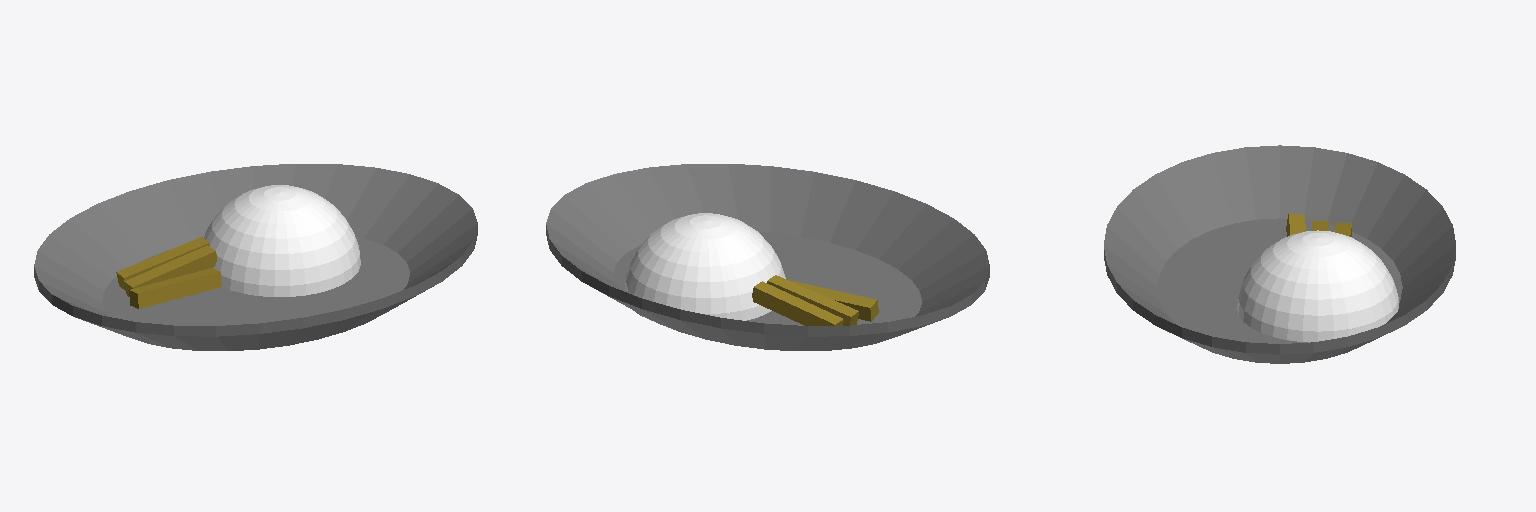
File: rice2_meat1_veg0.obj
3 renders of one model, left to right at view 1: azimuth 30°, elevation 25°; view 2: azimuth 150°, elevation 25°; view 3: azimuth 270°, elevation 25°, orthographic.
Parts seen in each view (by area): view 1: Cylinder, Sphere, Cube.002_Cube.003, Cube.001_Cube.002, Cube_Cube.001; view 2: Cylinder, Sphere, Cube_Cube.001, Cube.001_Cube.002, Cube.002_Cube.003; view 3: Cylinder, Sphere.
Part boxes in pixels (bbox=[...]): Cylinder: bbox=[34, 164, 477, 350]; Sphere: bbox=[204, 185, 360, 296]; Cube.002_Cube.003: bbox=[129, 268, 221, 308]; Cube.001_Cube.002: bbox=[124, 245, 216, 296]; Cube_Cube.001: bbox=[116, 237, 209, 290]; Cylinder: bbox=[546, 164, 989, 350]; Sphere: bbox=[625, 213, 785, 321]; Cube_Cube.001: bbox=[752, 281, 843, 325]; Cube.001_Cube.002: bbox=[767, 275, 858, 325]; Cube.002_Cube.003: bbox=[791, 281, 878, 321]; Cylinder: bbox=[1104, 145, 1455, 363]; Sphere: bbox=[1237, 230, 1398, 342].
Size of the model in its own units: 5.75 by 1.05 by 4.31.